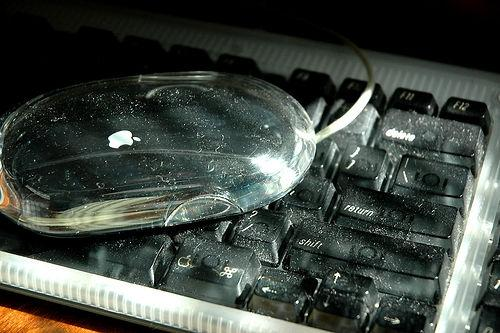apple: (108, 130, 141, 148), (178, 256, 191, 268)
